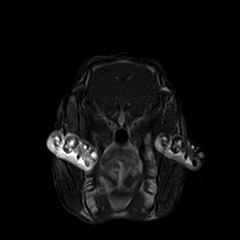Brain: (74, 31, 173, 129)
